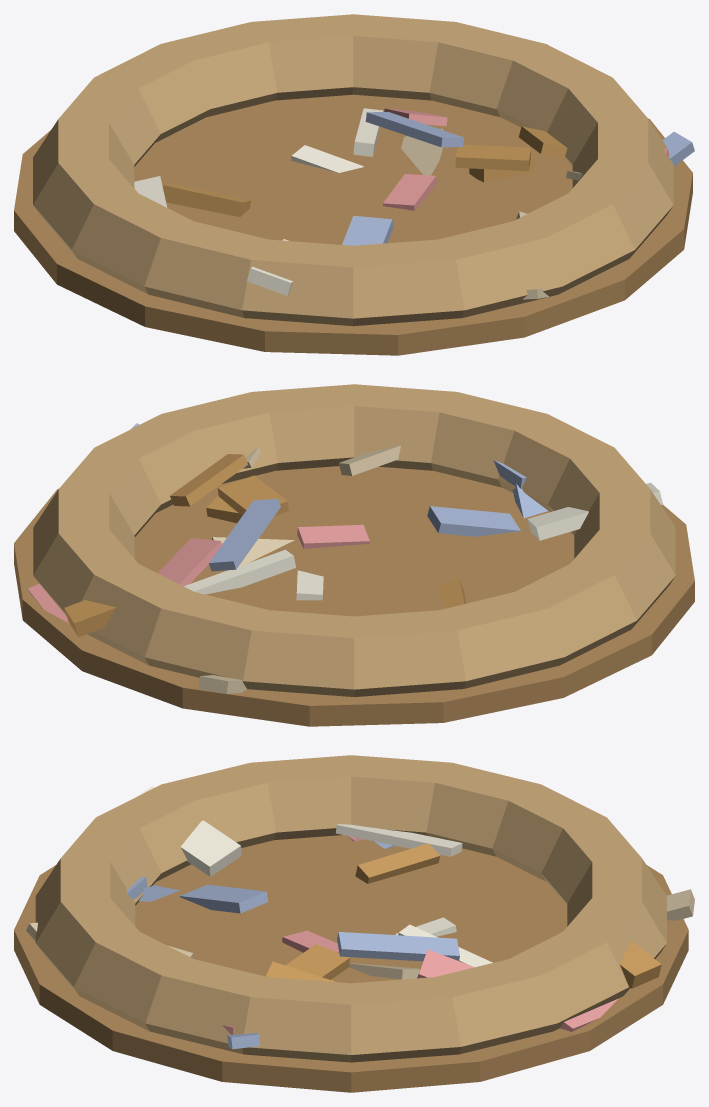
The model's file is nest.fbx.
3 renders of one model, top to bottom at view 1: azimuth 30°, elevation 25°; view 2: azimuth 150°, elevation 25°; view 3: azimuth 270°, elevation 25°, orthographic.
Visible parts, largest first — view 1: nest; view 2: nest; view 3: nest.
Boxes of the visible parts, x1,y1,x2,y2 form: nest: (14,14,694,355); nest: (14,384,694,726); nest: (14,755,694,1092).
Size of the model in its own units: 1.2 by 0.1559 by 1.21.
